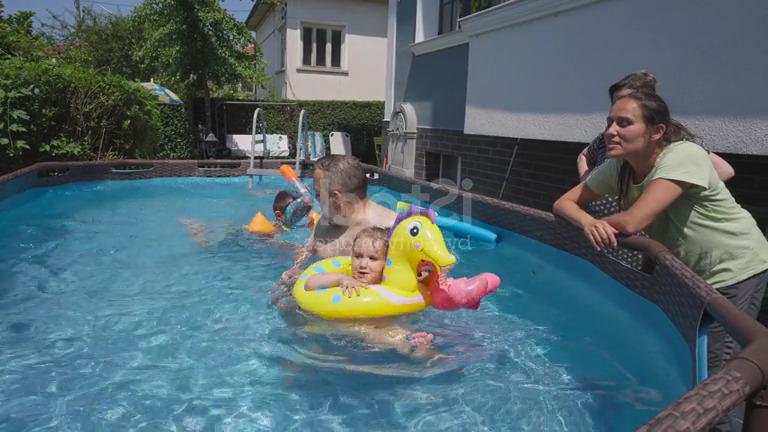Swimming: (271, 209, 476, 347)
